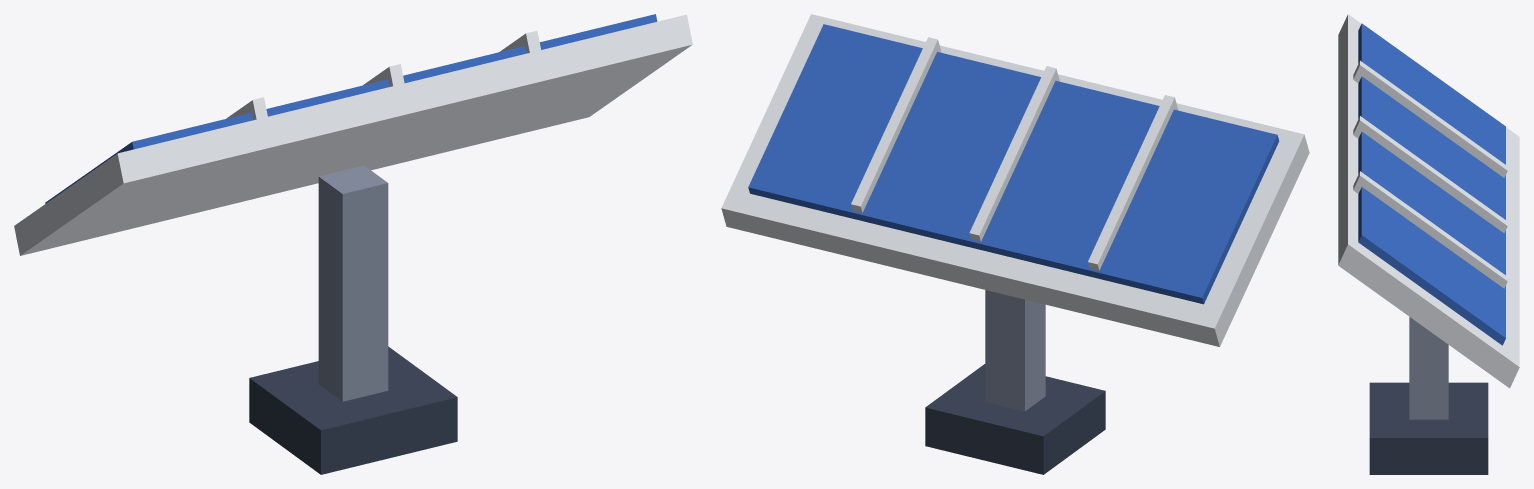
Rendered from env_r9_solar_panel.glb.
3 views of the same model, side by side, from view 1: azimuth 30°, elevation 25°; view 2: azimuth 150°, elevation 25°; view 3: azimuth 270°, elevation 25° (orthographic). The views are drawn at different scales.
Visible parts, largest first — view 1: env_r9_solar_panel; view 2: env_r9_solar_panel; view 3: env_r9_solar_panel.
Part boxes in pixels (bbox=[...]): env_r9_solar_panel: bbox=[14, 14, 692, 474]; env_r9_solar_panel: bbox=[721, 14, 1309, 474]; env_r9_solar_panel: bbox=[1338, 14, 1519, 474].
Size of the model in its own units: 2.4 by 1.6 by 0.8.
1 material, 1 textured.
